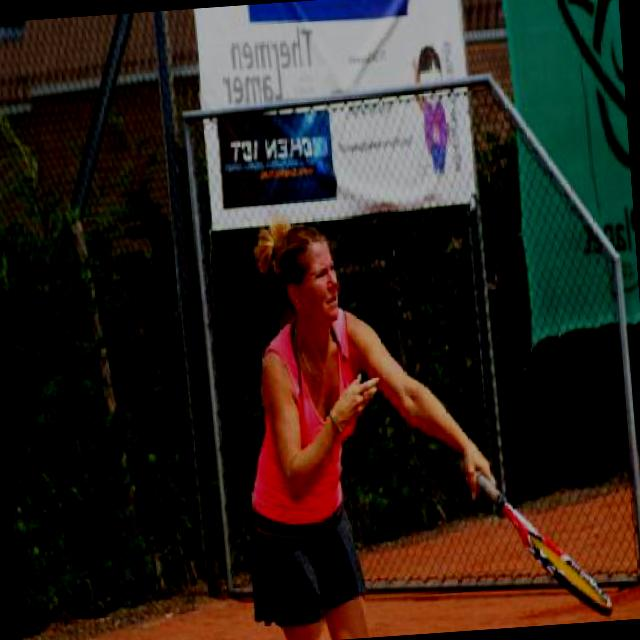Person: (224, 205, 503, 638)
